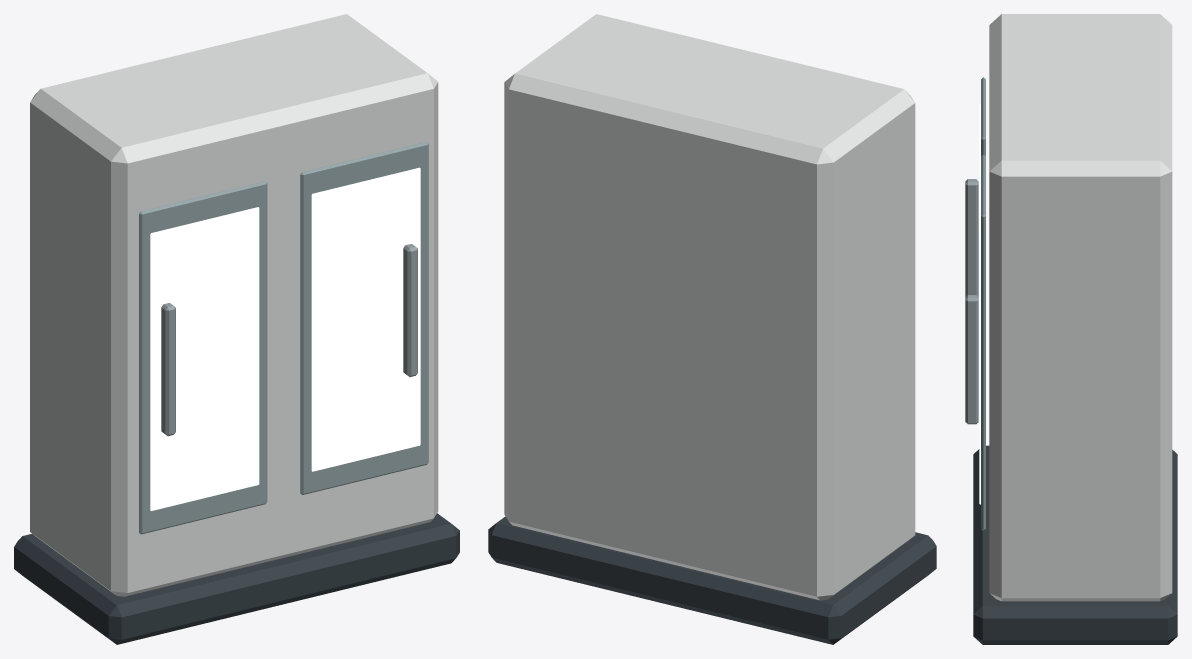
Rendered from Freezer.glb.
The picture shows the model from 3 angles, left to right: view 1: azimuth 30°, elevation 25°; view 2: azimuth 150°, elevation 25°; view 3: azimuth 270°, elevation 25°; orthographic projection. The views are drawn at different scales.
Visible parts, largest first — view 1: Body, FreezerGlow, FreezerGlow.001, Base, DoorGlass, DoorGlass.001, Handle.001, Handle.002; view 2: Body, Base; view 3: Body, Base, DoorGlass.001, Handle.002, Handle.001, FreezerGlow.001, DoorGlass.
Boxes of the visible parts, box(x1,y1,x2,y2) form: Body: box(30, 14, 438, 596); FreezerGlow: box(150, 207, 259, 510); FreezerGlow.001: box(311, 167, 420, 471); Base: box(14, 513, 459, 644); DoorGlass: box(139, 181, 267, 534); DoorGlass.001: box(300, 142, 428, 494); Handle.001: box(161, 303, 175, 436); Handle.002: box(403, 244, 417, 376); Body: box(504, 14, 915, 600); Base: box(488, 516, 936, 644); Body: box(989, 14, 1172, 601); Base: box(973, 445, 1177, 644); DoorGlass.001: box(981, 154, 985, 530); Handle.002: box(965, 295, 978, 424); Handle.001: box(965, 179, 978, 296); FreezerGlow.001: box(979, 180, 980, 504); DoorGlass: box(981, 77, 985, 156).
Size of the model in its own units: 1.48 by 1.96 by 0.79.
